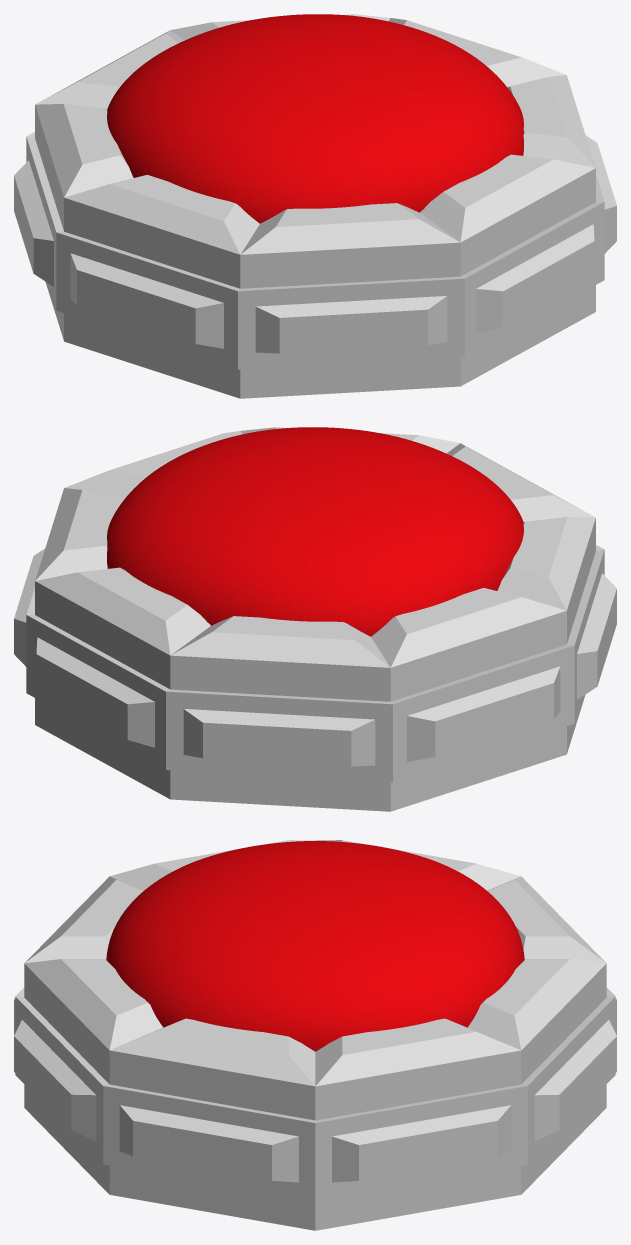
The model's file is Bouton_blank.fbx.
3 views of the same model, one above another, from view 1: azimuth 30°, elevation 25°; view 2: azimuth 150°, elevation 25°; view 3: azimuth 270°, elevation 25° (orthographic).
Parts seen in each view (by area): view 1: Accroche, Bouton; view 2: Accroche, Bouton; view 3: Accroche, Bouton.
Boxes of the visible parts, x1,y1,x2,y2 form: Accroche: (14, 14, 616, 398); Bouton: (107, 14, 523, 223); Accroche: (14, 427, 616, 811); Bouton: (107, 427, 523, 636); Accroche: (14, 840, 616, 1230); Bouton: (106, 841, 524, 1051).
Size of the model in its own units: 207 by 85.21 by 207.
